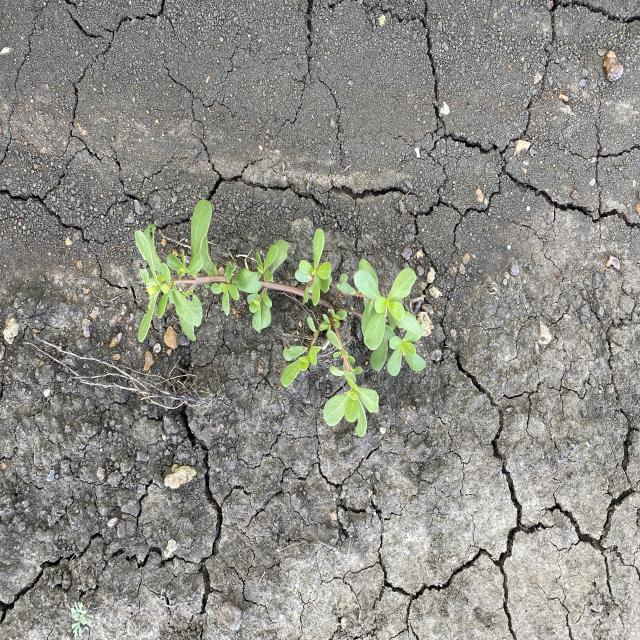Purslane: (133, 198, 429, 442)
